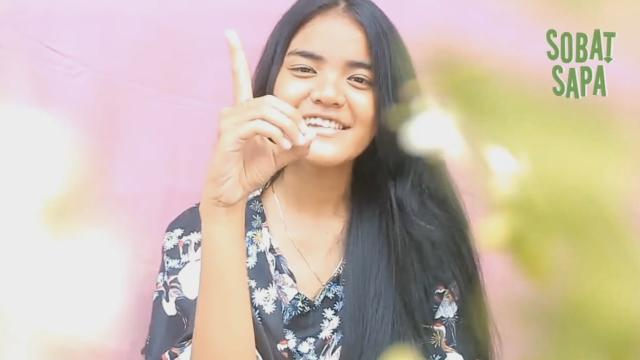D: (198, 28, 314, 228)
